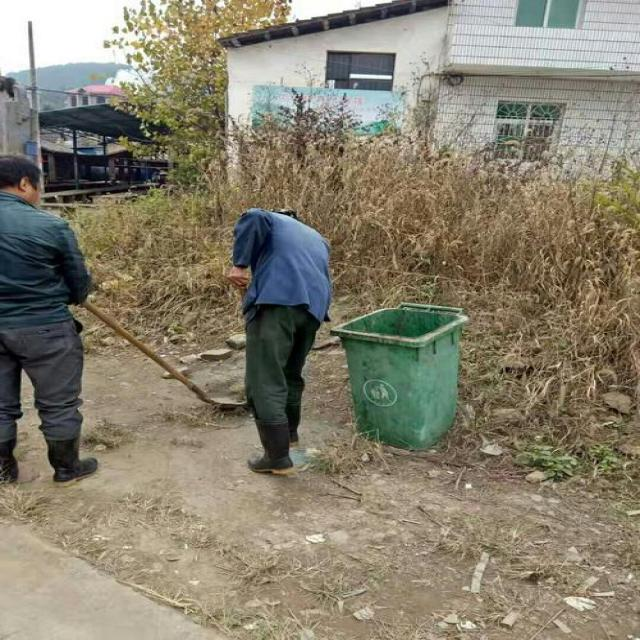garbage_bin: (325, 300, 466, 451)
